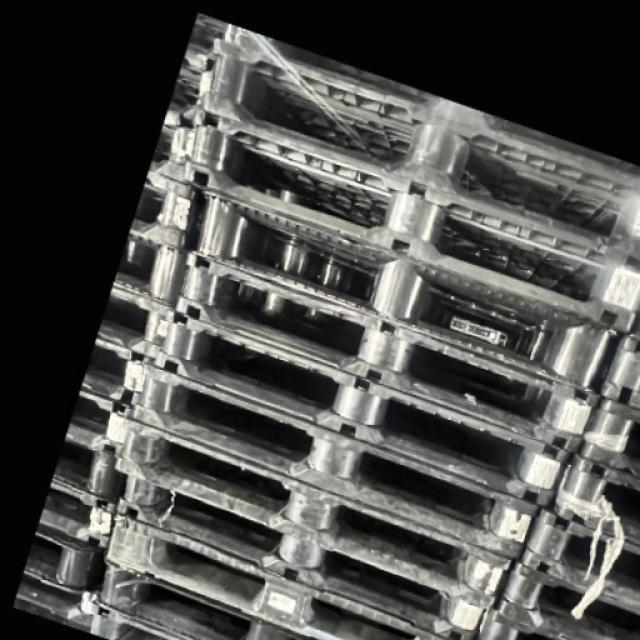igps: (176, 96, 640, 344), (187, 176, 628, 406), (191, 46, 640, 268), (170, 234, 607, 460), (126, 343, 552, 565), (149, 298, 580, 515), (110, 410, 520, 618), (103, 450, 499, 640), (215, 12, 640, 182), (100, 509, 453, 640), (90, 550, 324, 640), (518, 502, 640, 614), (493, 554, 640, 640), (546, 445, 640, 551), (91, 276, 180, 366), (30, 470, 123, 556), (108, 223, 195, 312), (15, 516, 101, 606), (72, 330, 160, 415), (126, 159, 202, 254), (136, 96, 211, 190), (62, 375, 138, 467), (49, 421, 128, 509), (86, 586, 210, 640), (574, 386, 640, 486), (469, 593, 568, 640), (592, 326, 640, 414)
